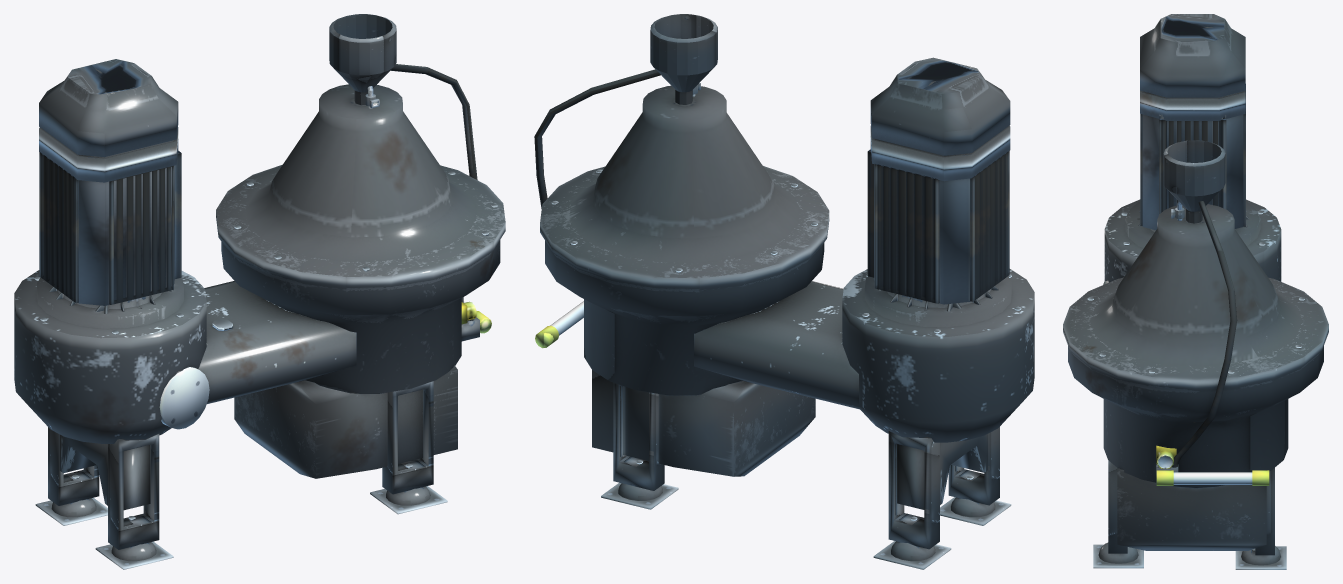
File: fuel_cleaner.fbx
The picture shows the model from 3 angles, left to right: view 1: azimuth 30°, elevation 25°; view 2: azimuth 150°, elevation 25°; view 3: azimuth 270°, elevation 25°; orthographic projection. The views are drawn at different scales.
Parts seen in each view (by area): view 1: polySurface145, polySurface136, polySurface138; view 2: polySurface145, polySurface136, polySurface138; view 3: polySurface145, polySurface136, polySurface138.
Boxes of the visible parts, x1,y1,x2,y2 form: polySurface145: (14, 64, 505, 569); polySurface136: (39, 59, 181, 305); polySurface138: (329, 14, 396, 105); polySurface145: (534, 69, 1034, 569); polySurface136: (867, 57, 1010, 304); polySurface138: (650, 14, 717, 104); polySurface145: (1063, 199, 1328, 569); polySurface136: (1140, 14, 1245, 230); polySurface138: (1163, 140, 1225, 223).
Bounding box in the file's own units: 1.85 × 1.72 × 0.9992.
Materials: 1 (1 with a texture image).
